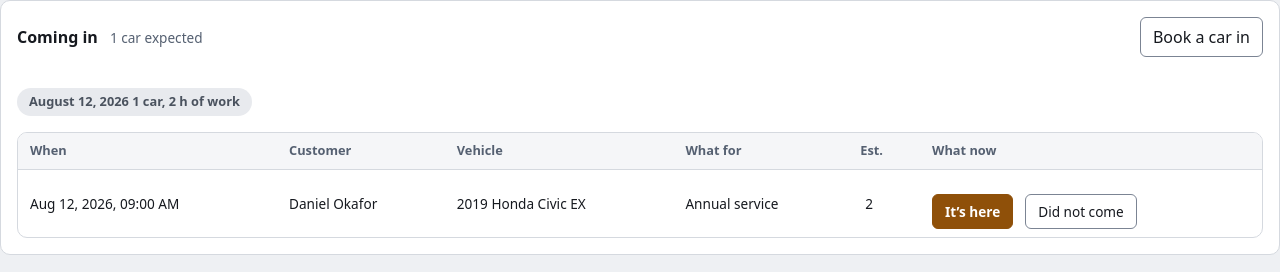
Test: the service diary › puts the old value back when the server refuses
Step 1. Click the button "2" → click(872, 203), box [860, 188, 884, 219]
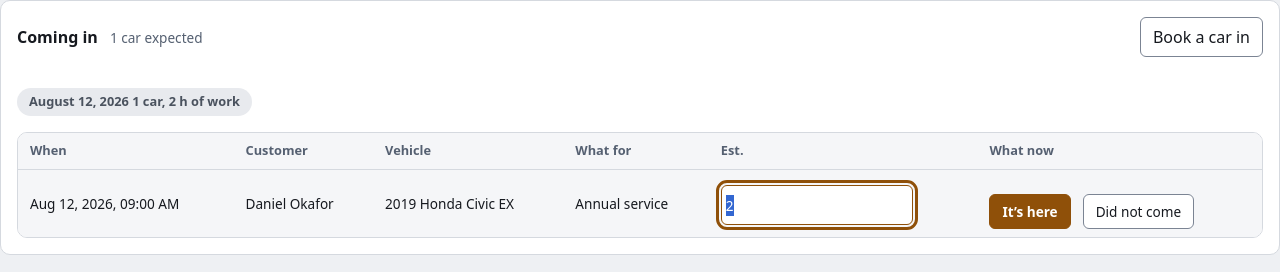
Step 2. Replace the text in the field named "Est." with "4" → (817, 205), box [721, 185, 913, 225]
Then press Enter
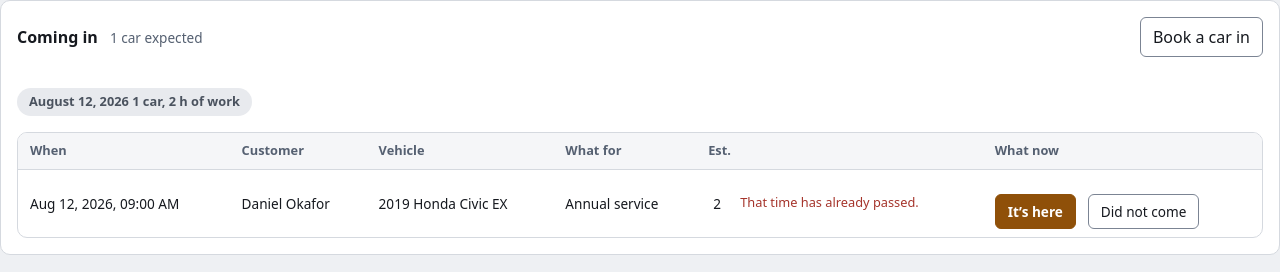
Expected: the message reads "That time has already passed.", [740, 193, 919, 211]
Expected: the button "2" is shown
Step 3. Click the button "2" → click(720, 203), box [708, 188, 732, 219]
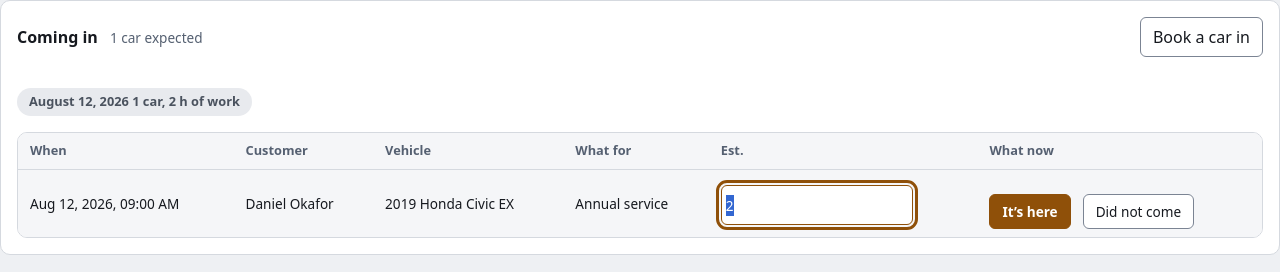
Expected: the field named "Est." holds "2", [721, 185, 913, 225]
